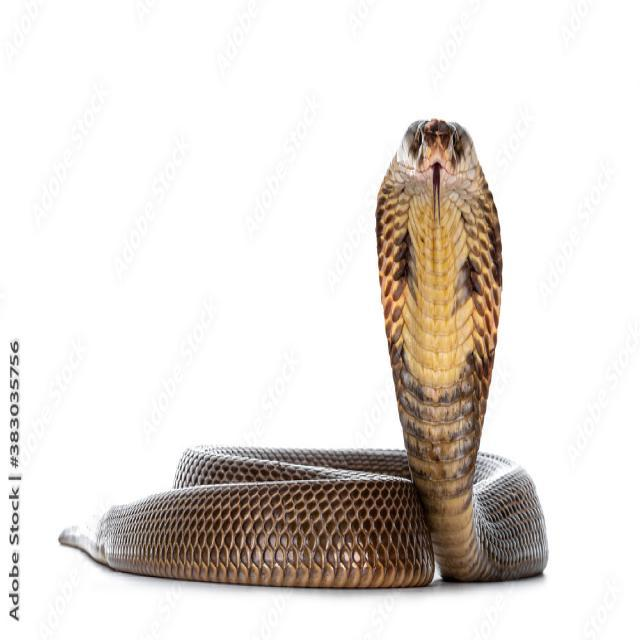Snake: (41, 88, 552, 610)
